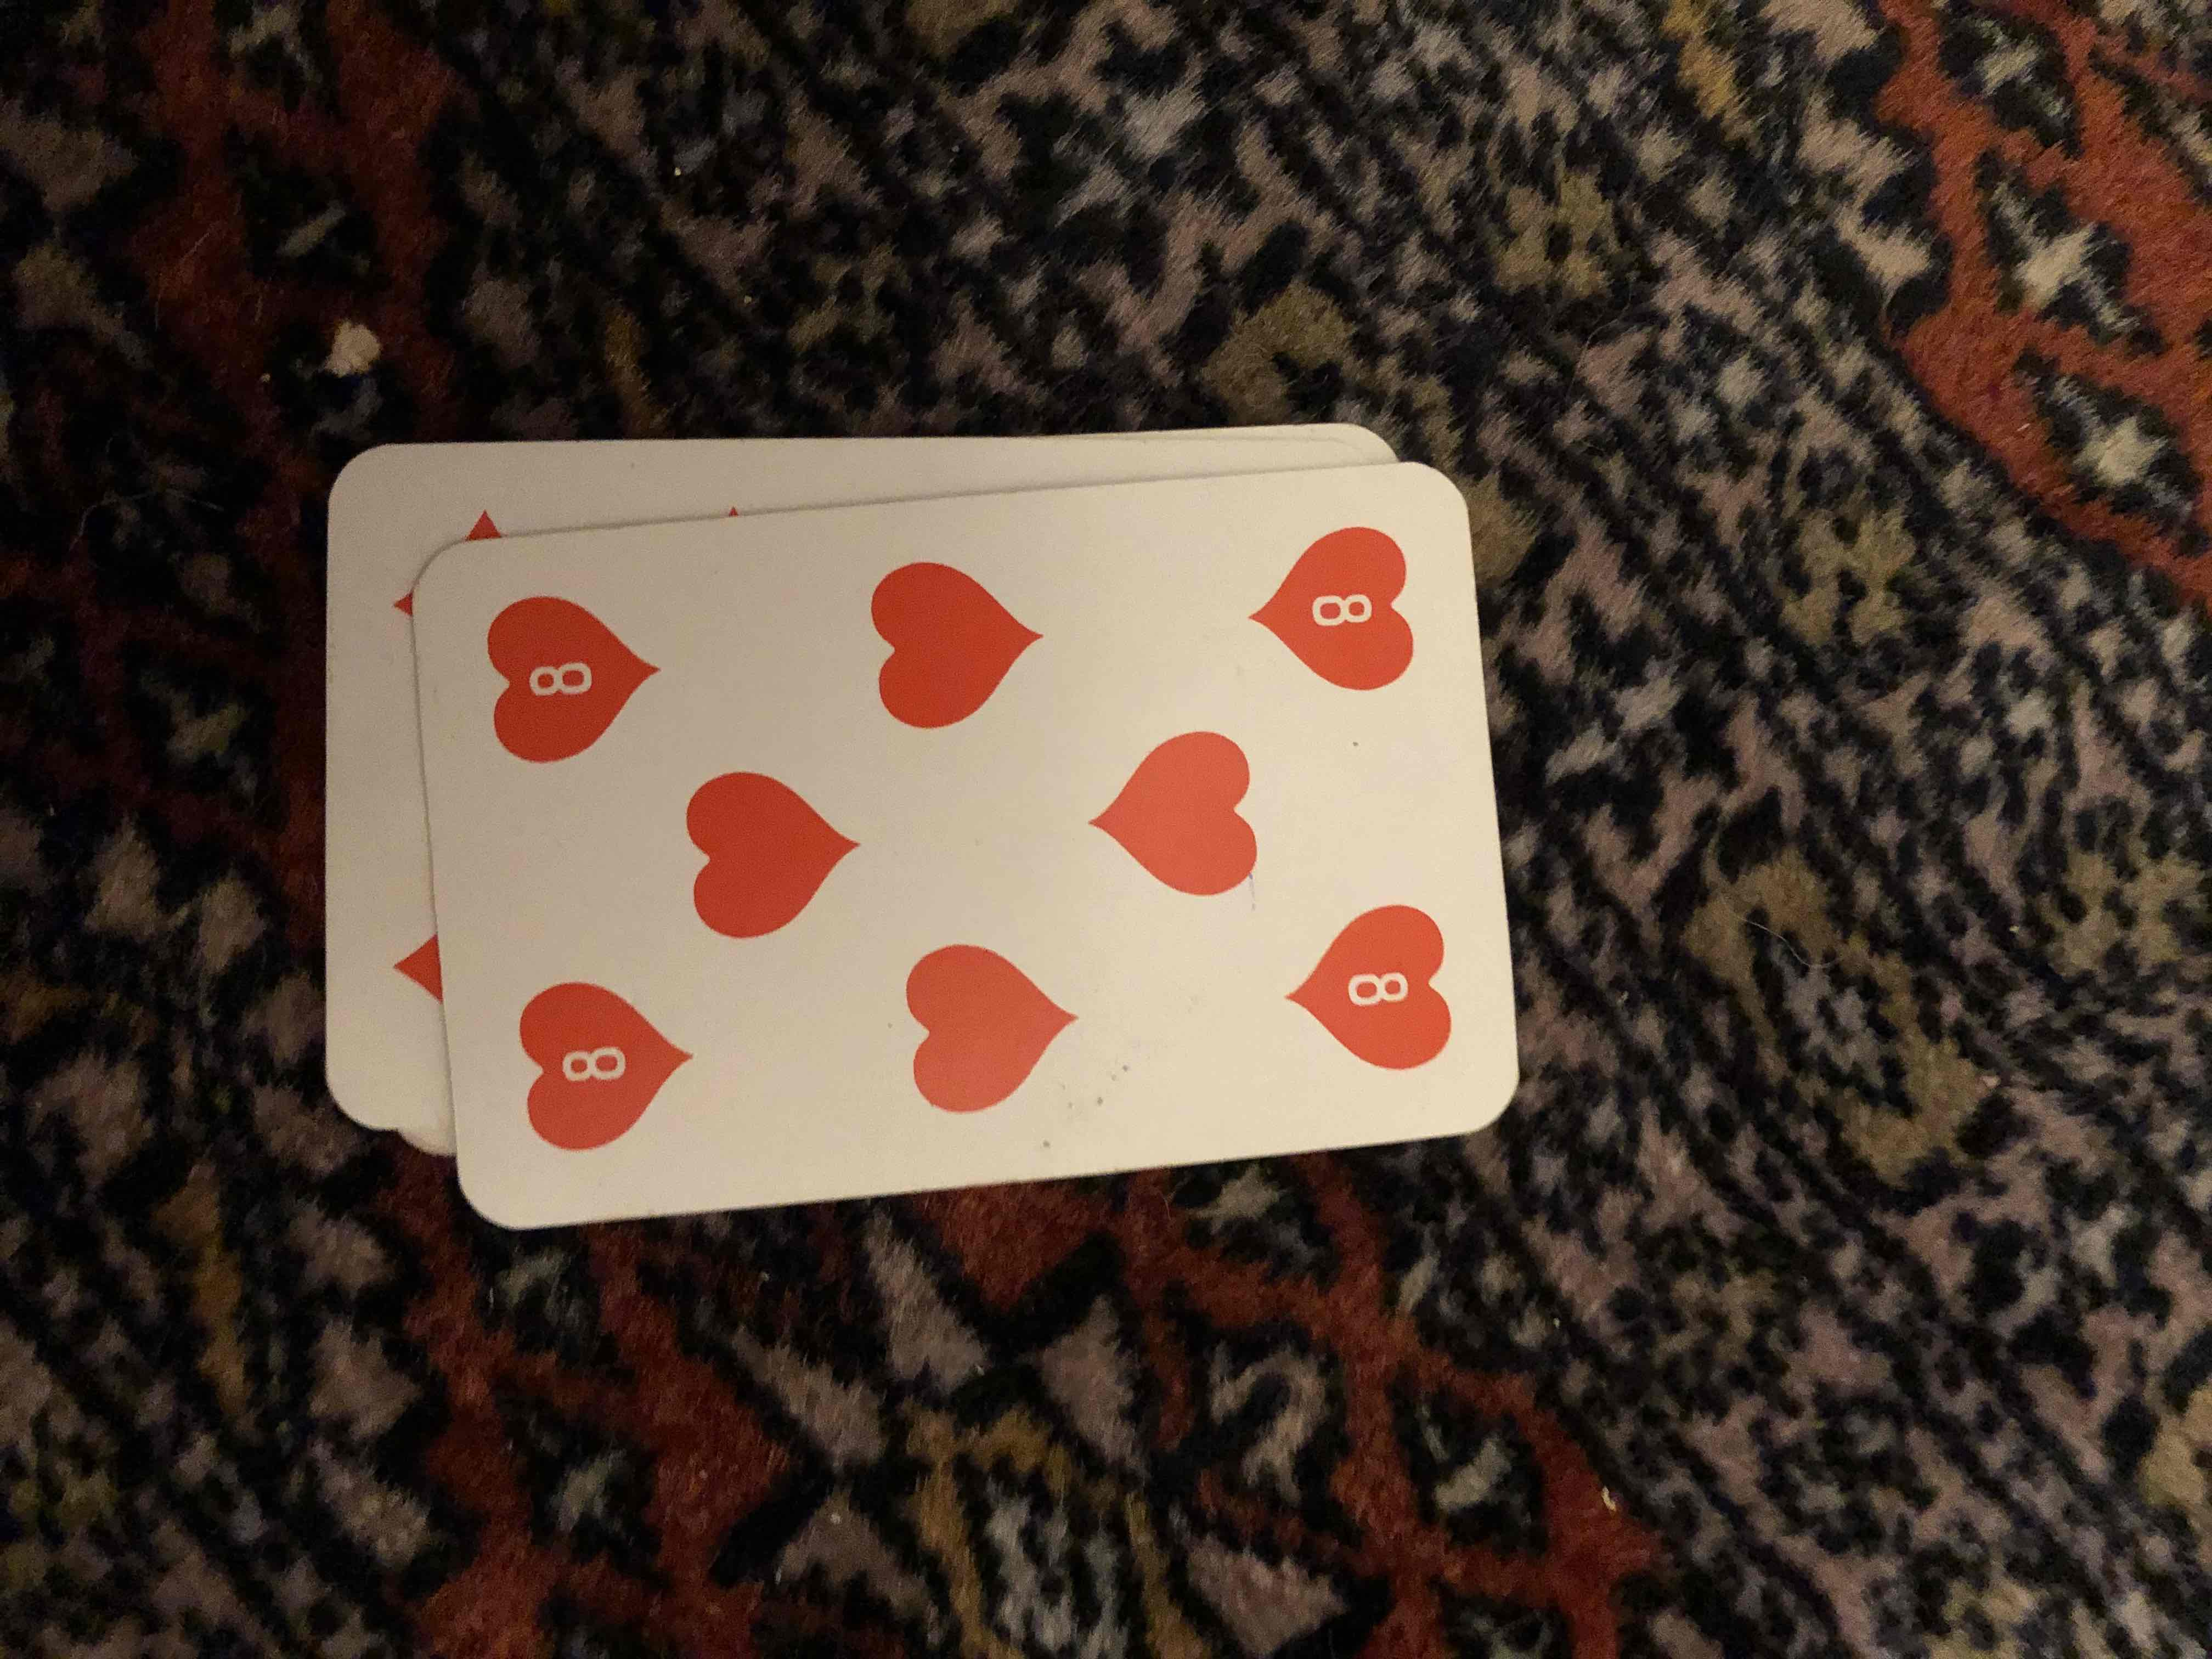hearts8: (456, 500, 1526, 1155)
